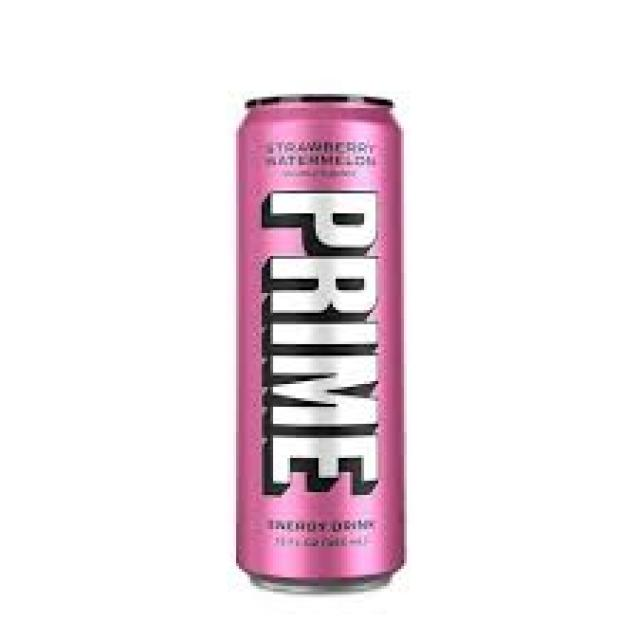Cans: (225, 85, 421, 600)
